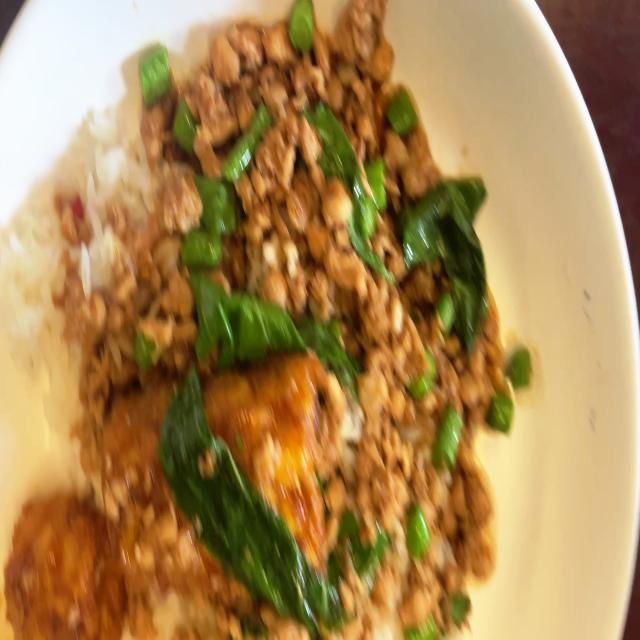fried_tofo: (110, 372, 329, 564), (17, 504, 121, 640)
minced_pork: (159, 0, 523, 365), (329, 370, 493, 630), (117, 573, 328, 640), (86, 268, 164, 362), (57, 189, 82, 357), (77, 365, 108, 484)
rice: (90, 94, 140, 267), (15, 200, 54, 366), (44, 359, 79, 464)
stir_fried_basil: (0, 0, 520, 640)
